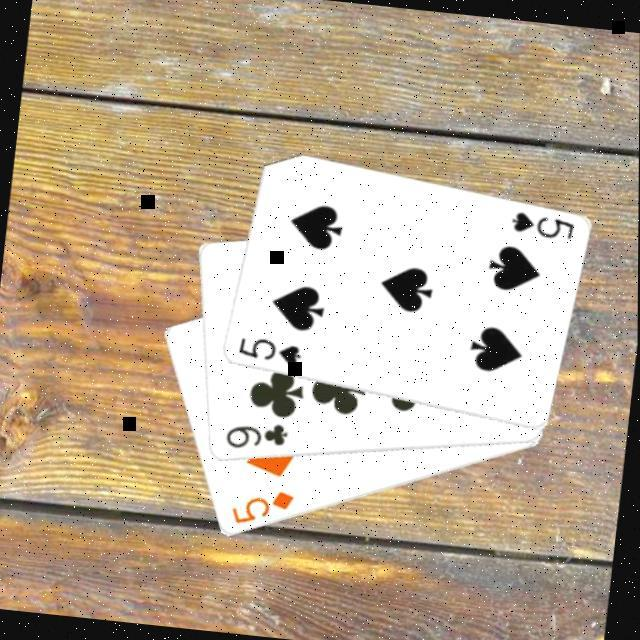5D: (225, 483, 297, 534)
5S: (232, 333, 303, 371), (504, 208, 576, 245)
9C: (220, 415, 291, 458)
